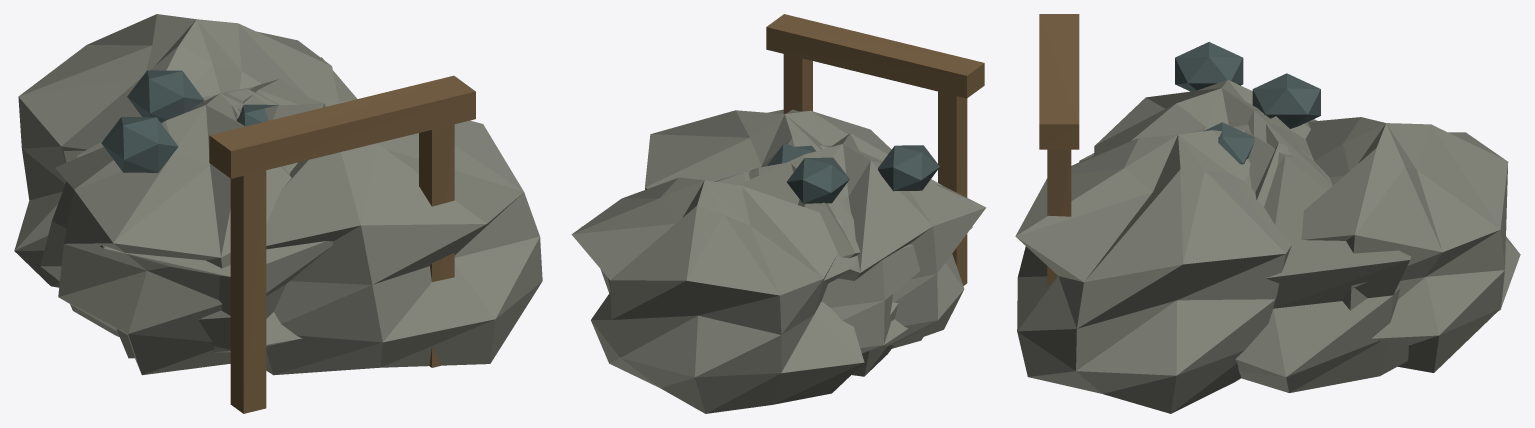
The model's file is iron_deposit.glb.
3 views of the same model, side by side, from view 1: azimuth 30°, elevation 25°; view 2: azimuth 150°, elevation 25°; view 3: azimuth 270°, elevation 25° (orthographic). The views are drawn at different scales.
Parts seen in each view (by area): view 1: world-scenery/iron_deposit; view 2: world-scenery/iron_deposit; view 3: world-scenery/iron_deposit.
Boxes of the visible parts, x1,y1,x2,y2 form: world-scenery/iron_deposit: [14, 14, 542, 413]; world-scenery/iron_deposit: [571, 14, 986, 413]; world-scenery/iron_deposit: [1015, 14, 1520, 413].
Bounding box in the file's own units: 2.23 × 1.37 × 2.52.
